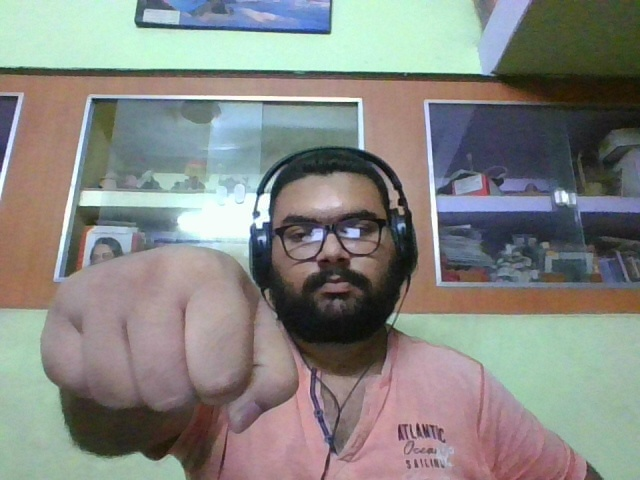yes: (40, 241, 303, 440)
